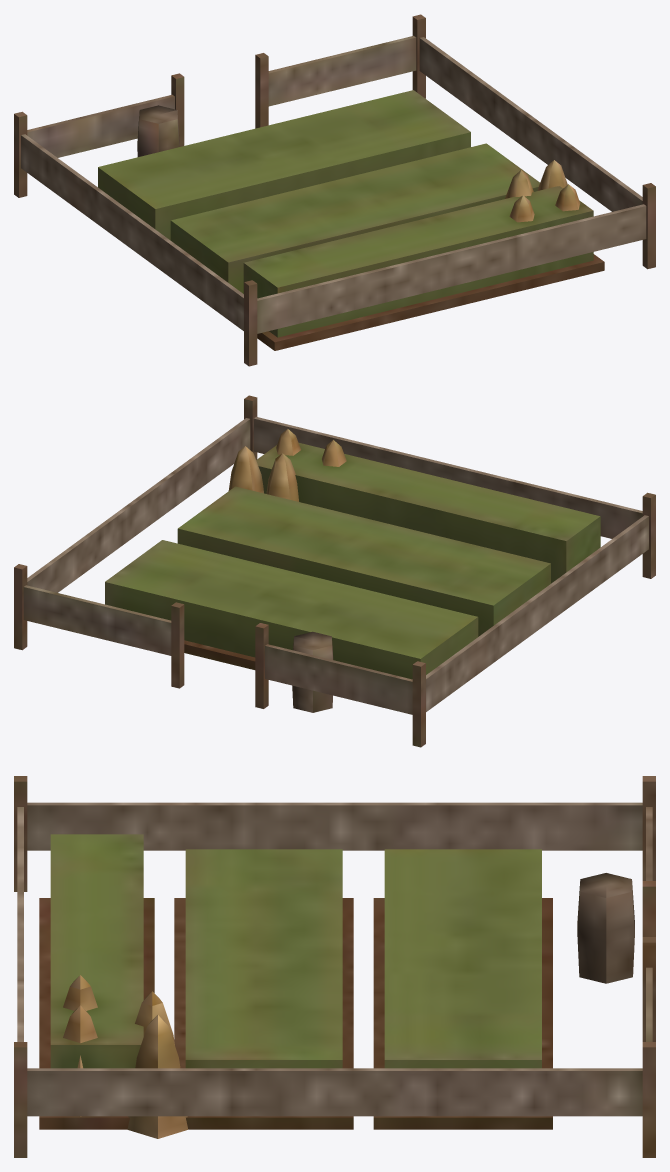
The model's file is b_bigfield_xfar.glb.
3 views of the same model, one above another, from view 1: azimuth 30°, elevation 25°; view 2: azimuth 150°, elevation 25°; view 3: azimuth 270°, elevation 25° (orthographic). The views are drawn at different scales.
Parts seen in each view (by area): view 1: b_bigfield_xfar; view 2: b_bigfield_xfar; view 3: b_bigfield_xfar.
Boxes of the visible parts, x1,y1,x2,y2 form: b_bigfield_xfar: (14,14,655,366); b_bigfield_xfar: (14,395,655,747); b_bigfield_xfar: (14,776,655,1157).
Size of the model in its own units: 5.8 by 1.1 by 5.8.
1 material, 1 textured.
